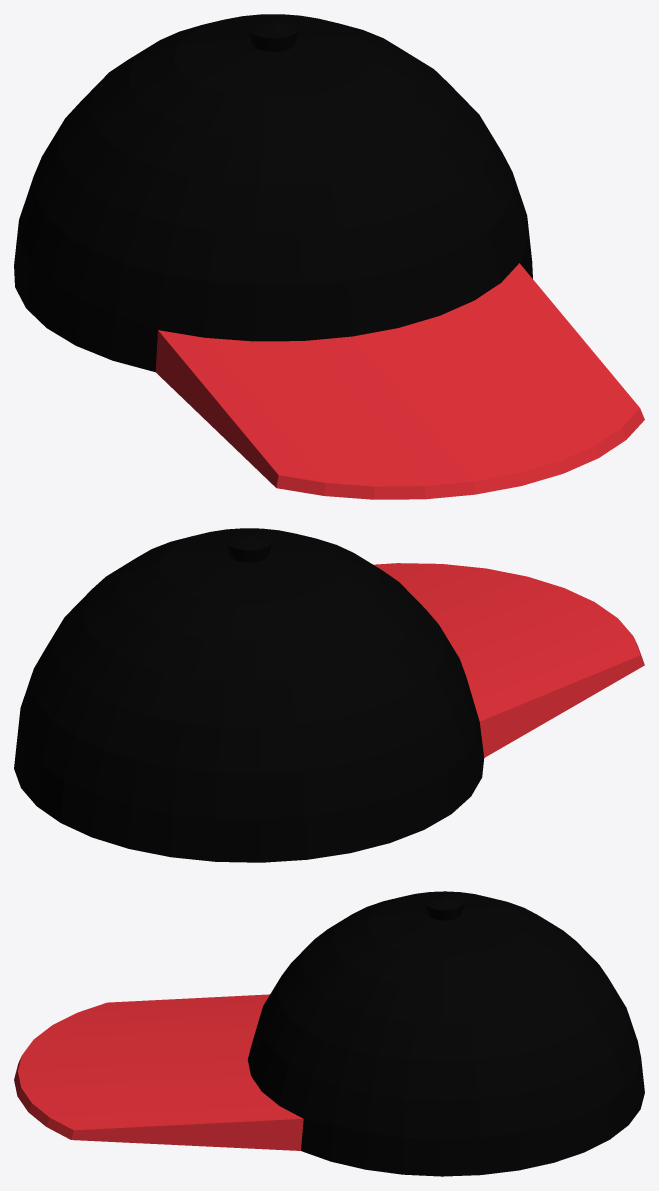
File: Cap.fbx
The picture shows the model from 3 angles, top to bottom: view 1: azimuth 30°, elevation 25°; view 2: azimuth 150°, elevation 25°; view 3: azimuth 270°, elevation 25°; orthographic projection. The views are drawn at different scales.
Parts seen in each view (by area): view 1: Cap; view 2: Cap; view 3: Cap.
Boxes of the visible parts, box(x1,y1,x2,y2) form: Cap: box(14, 14, 644, 499); Cap: box(14, 528, 644, 862); Cap: box(14, 891, 644, 1176).
Bounding box in the file's own units: 47.92 × 25.64 × 75.39.
